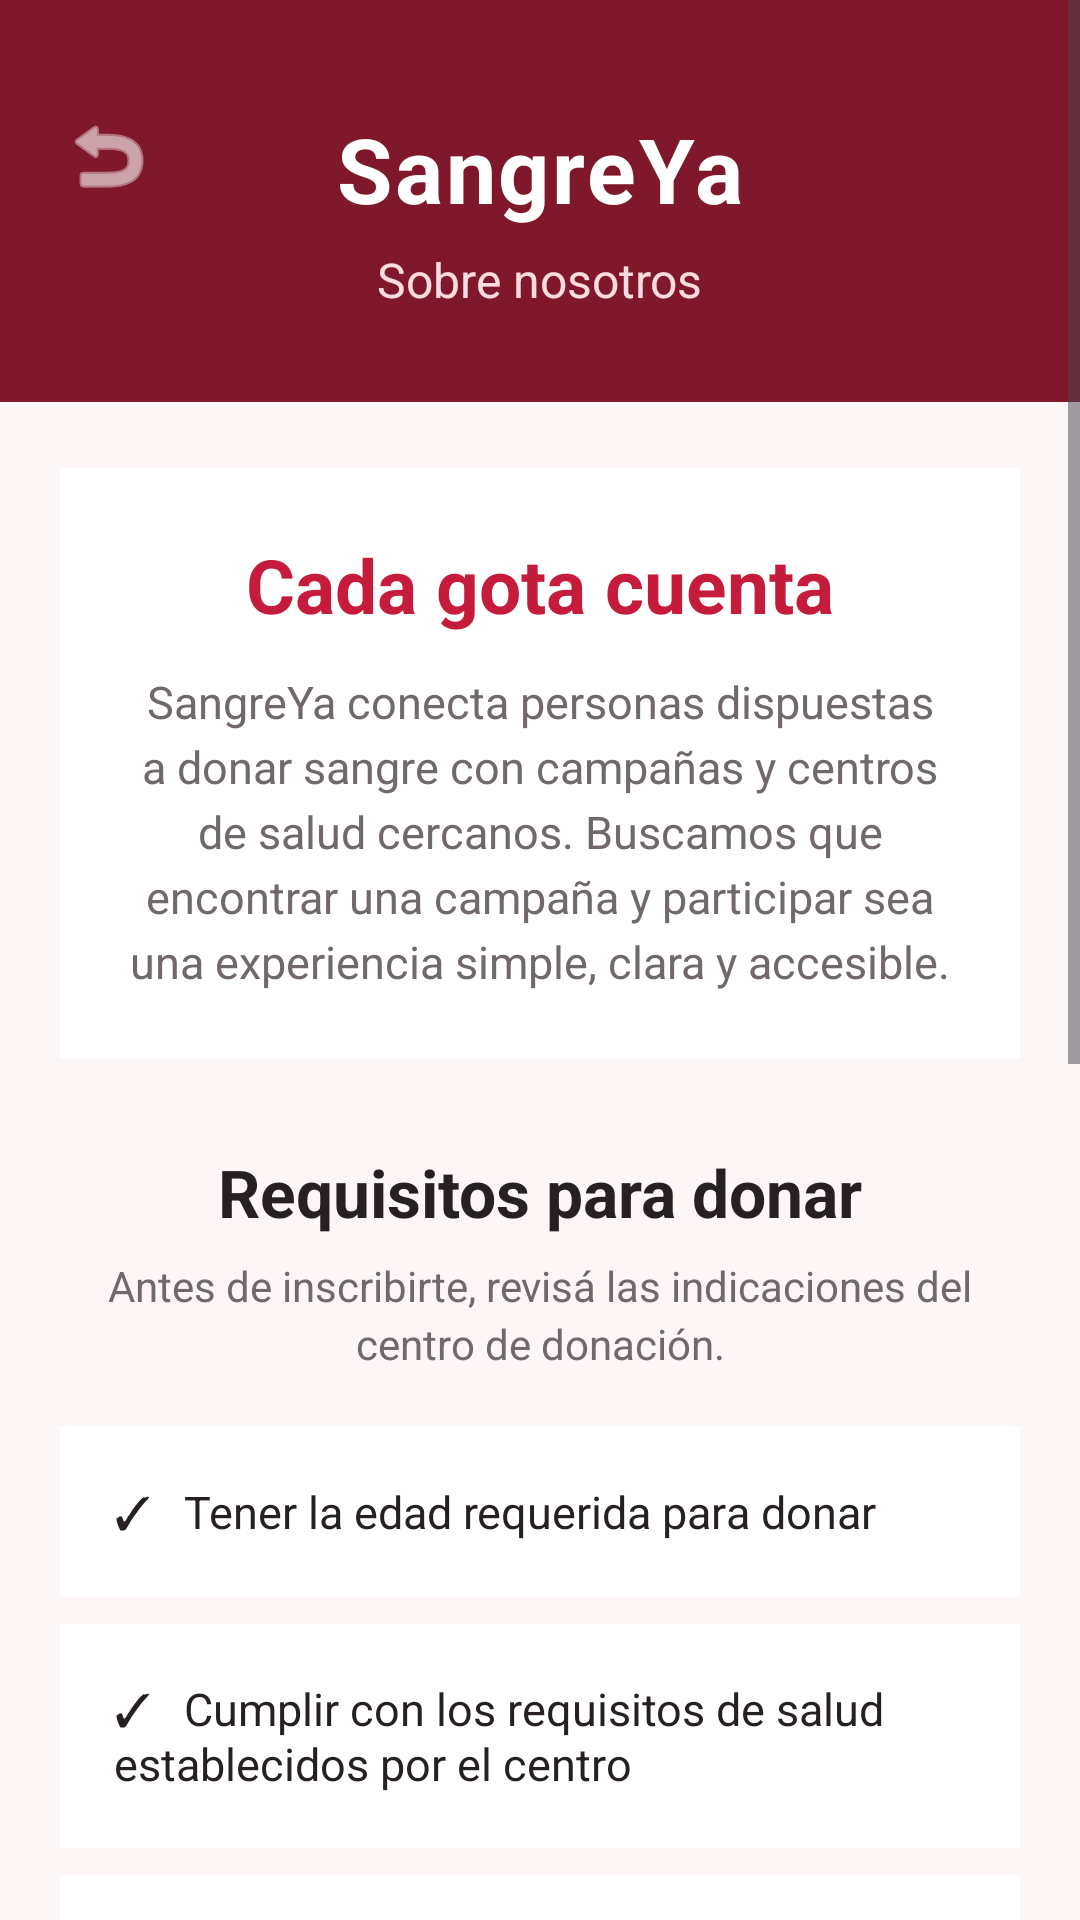

Where icons sit on this 1080 × 1920 app screen, as (x1, y1, x2, y2):
Volver: (75, 125, 144, 188)
